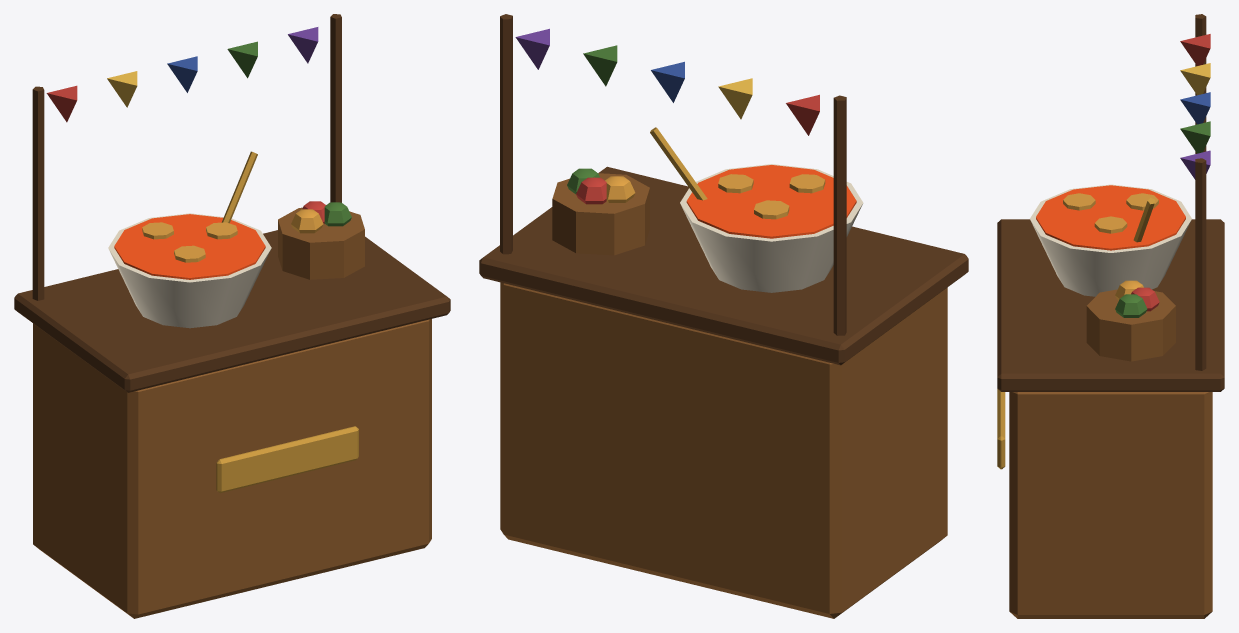
The model's file is PR_Station_Punc_T2.fbx.
3 renders of one model, left to right at view 1: azimuth 30°, elevation 25°; view 2: azimuth 150°, elevation 25°; view 3: azimuth 270°, elevation 25°, orthographic. The views are drawn at different scales.
Parts seen in each view (by area): view 1: PR_Station_Punc_T2; view 2: PR_Station_Punc_T2; view 3: PR_Station_Punc_T2.
Boxes of the visible parts, x1,y1,x2,y2 form: PR_Station_Punc_T2: (14, 14, 450, 618); PR_Station_Punc_T2: (479, 14, 968, 618); PR_Station_Punc_T2: (997, 14, 1224, 618).
Bounding box in the file's own units: 0.92 × 1.25 × 0.56.
